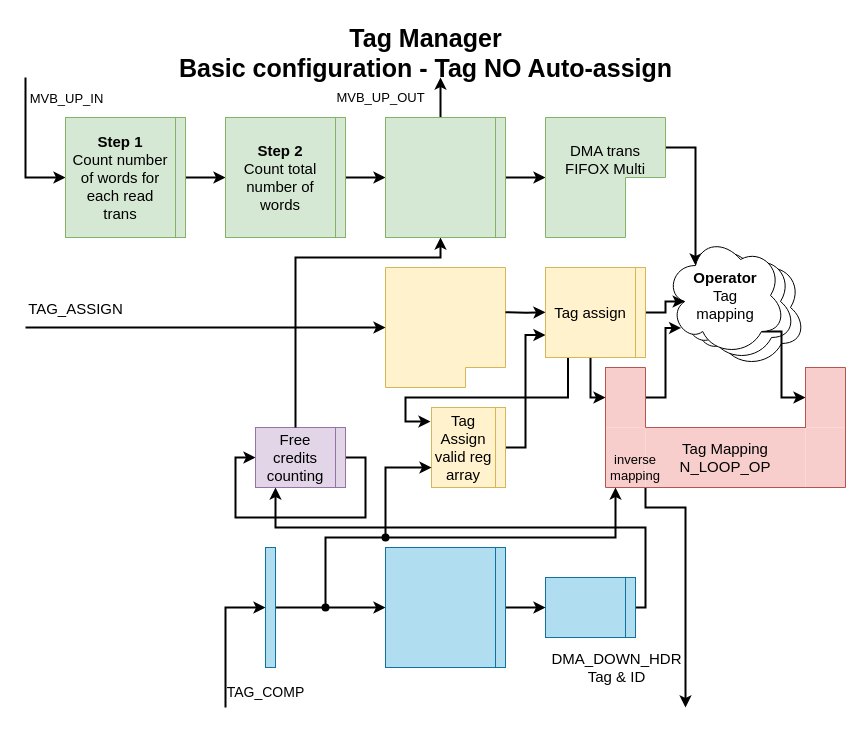
Image size: 863x733. Some labels were removed from this diagram. The centre of each missing label's shape, as x and y in pixels:
PCIe Tag FIFOX Multi: [445,327]
Pipe Tree Adder: [585,607]
PTA IN Completion words counting: [445,607]
Step 3 Credits checking: [440,177]
